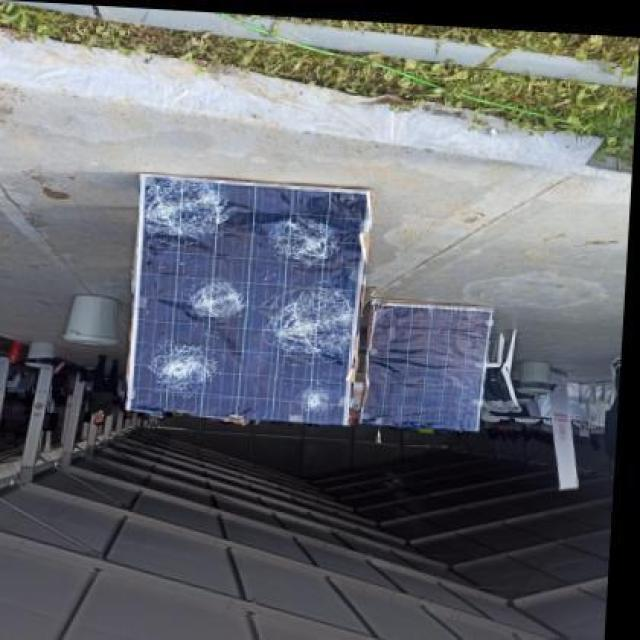cracked: (125, 163, 368, 430)
